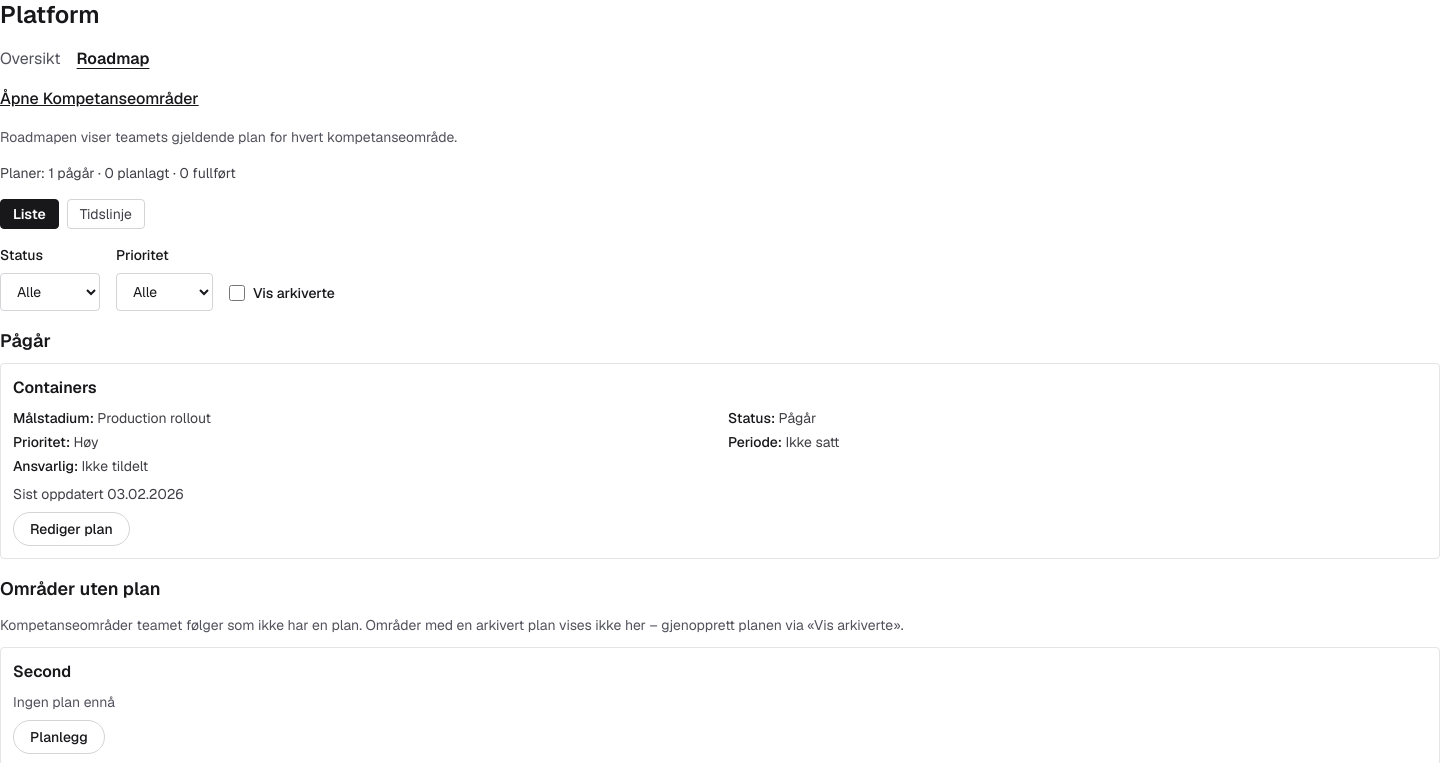
Roadmap page editing — failures › reports a failed canonical refetch separately and keeps the previous state
Expected: the heading "Containers" is shown, [13, 377, 97, 398]
Click the button with aria-label "Rediger plan – Containers" at coordinates (71, 529), box [13, 512, 130, 546]
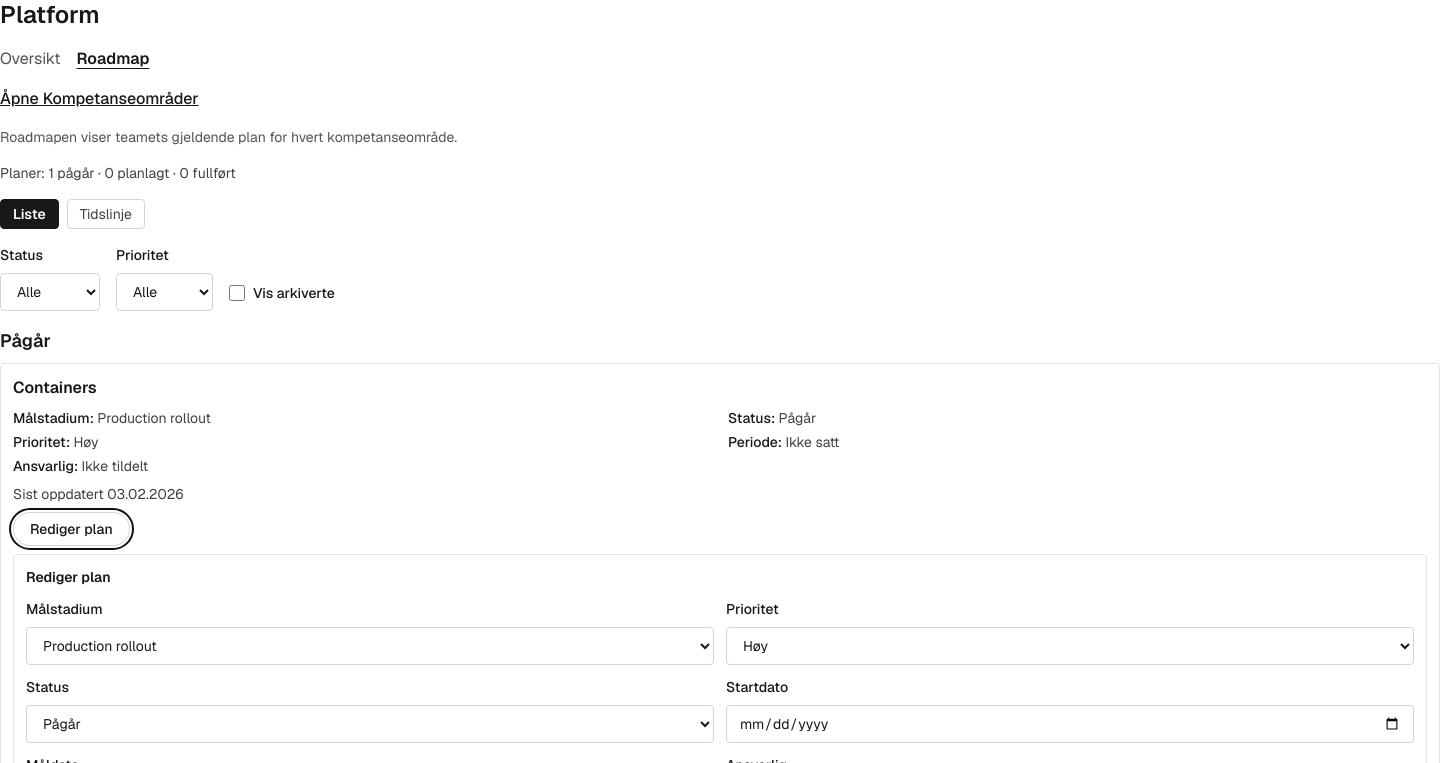
Select "Lav" in the dropdown labelled "Prioritet" below "Periode" at coordinates (1070, 646), box [726, 627, 1414, 665]
(page scrolled)
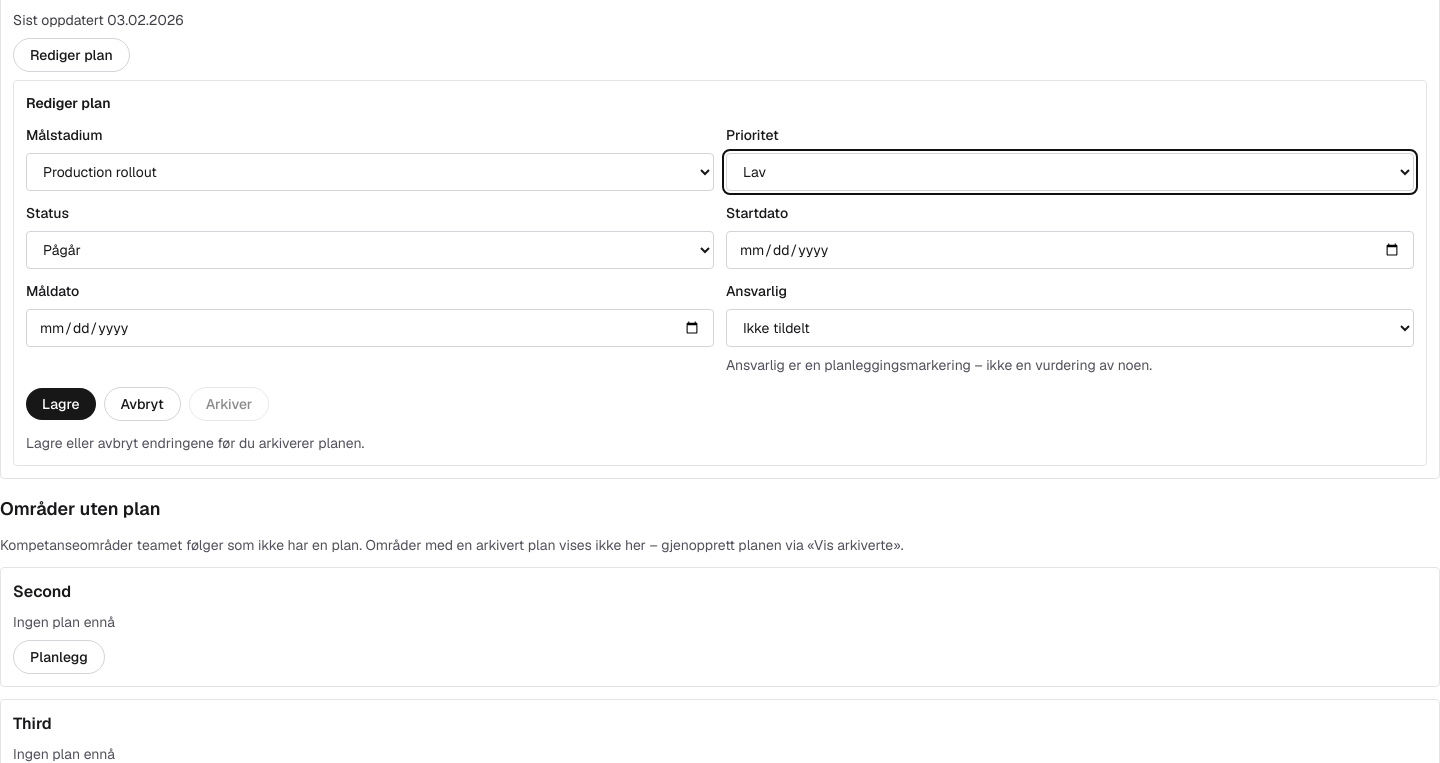
Click the button "Lagre" at coordinates (61, 404), box [26, 388, 96, 420]
(page scrolled)
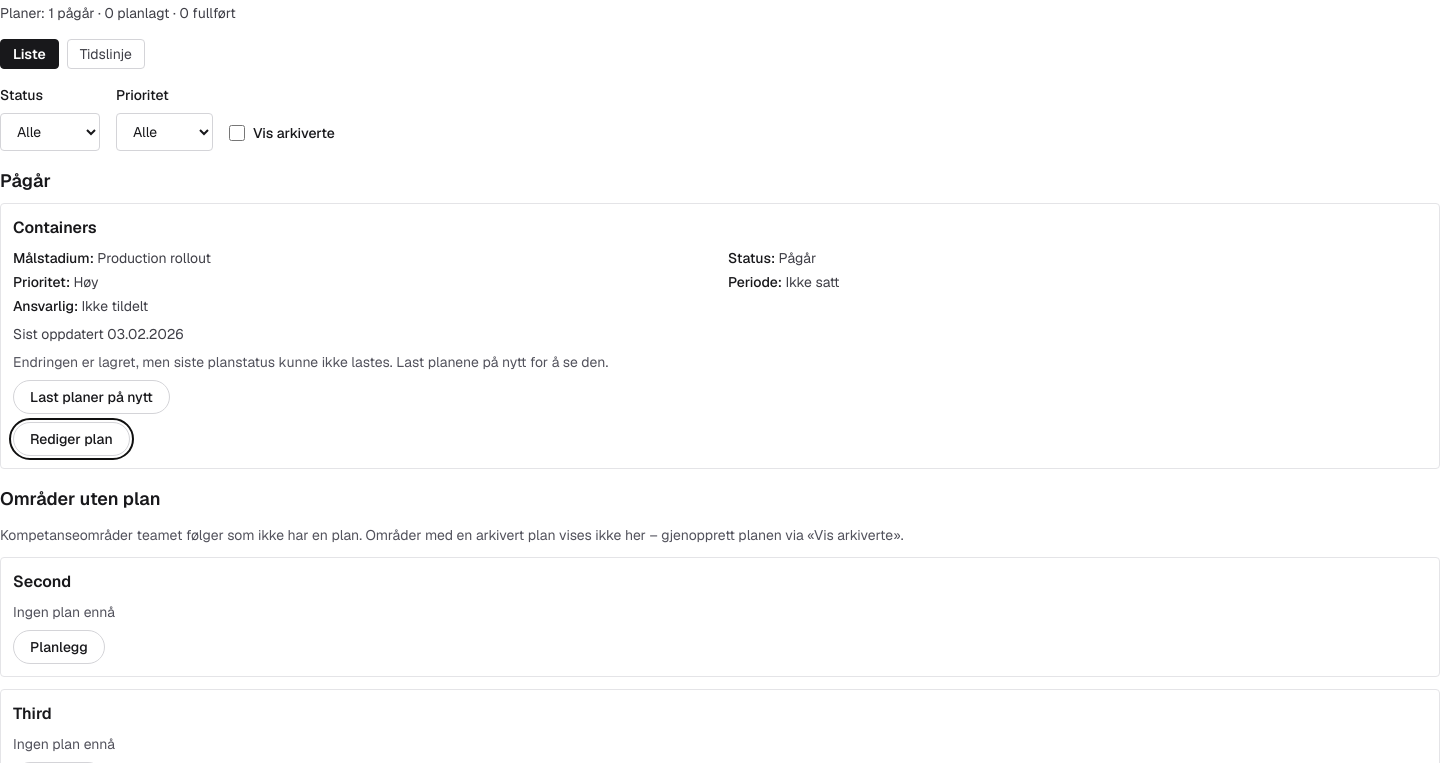
Expected: the text "Høy" is shown, [74, 273, 98, 291]
Now the text "Endringen er lagret, men siste planstatus kunne ikke lastes" is shown, box [13, 353, 608, 371]
Now the button "Last planer på nytt" is shown, box [13, 380, 170, 414]
